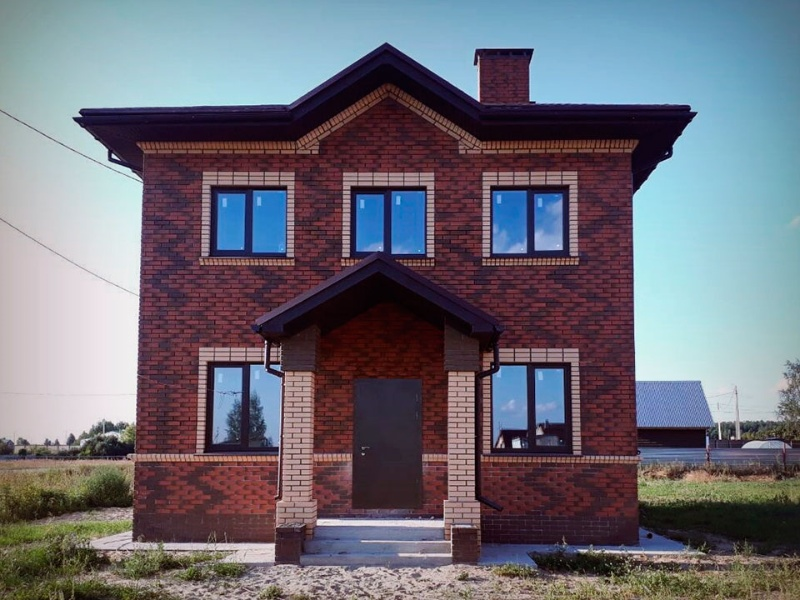window: (487, 357, 572, 448), (204, 355, 282, 454), (204, 177, 289, 252), (347, 181, 429, 254), (487, 183, 568, 250)
